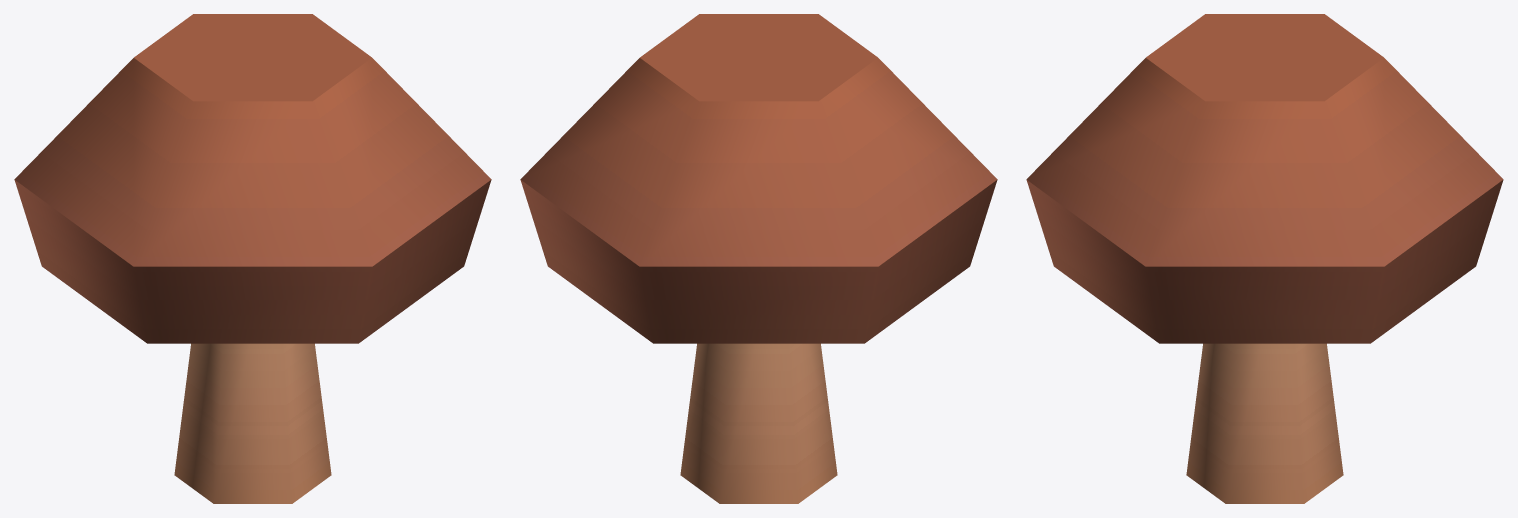
File: mushroom.glb
The picture shows the model from 3 angles, left to right: view 1: azimuth 30°, elevation 25°; view 2: azimuth 150°, elevation 25°; view 3: azimuth 270°, elevation 25°; orthographic projection.
Visible parts, largest first — view 1: mushroom; view 2: mushroom; view 3: mushroom.
Boxes of the visible parts, <box> form: mushroom: <box>14,14,491,503</box>; mushroom: <box>520,14,997,503</box>; mushroom: <box>1026,14,1503,503</box>.
Size of the model in its own units: 0.1249 by 0.1392 by 0.1442.
Materials: 1 (1 with a texture image).
